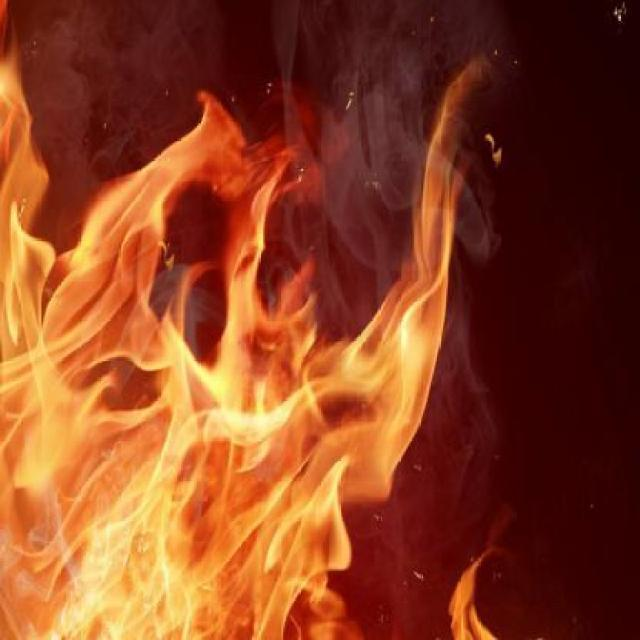Fire: (0, 0, 540, 638)
Smoke: (4, 0, 542, 635)
